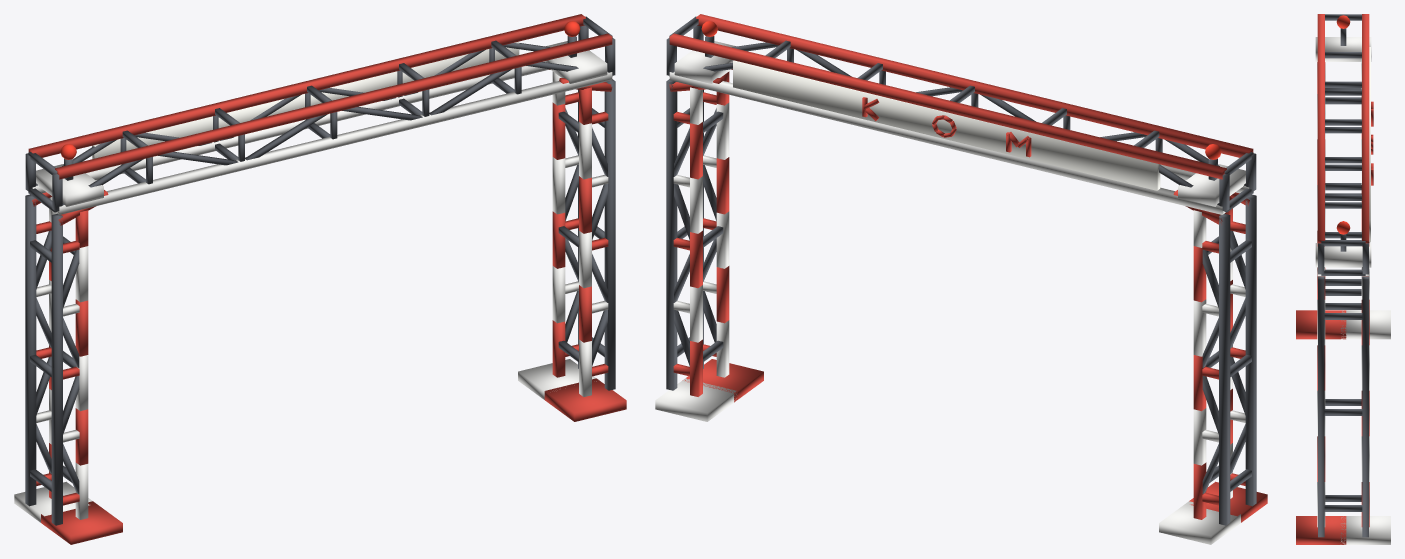
The model's file is prop_arch.gltf.
The picture shows the model from 3 angles, left to right: view 1: azimuth 30°, elevation 25°; view 2: azimuth 150°, elevation 25°; view 3: azimuth 270°, elevation 25°; orthographic projection. The views are drawn at different scales.
Visible parts, largest first — view 1: RaceArch; view 2: RaceArch; view 3: RaceArch.
Boxes of the visible parts, <box> form: RaceArch: <box>14,14,626,544</box>; RaceArch: <box>655,14,1267,544</box>; RaceArch: <box>1296,14,1390,544</box>.
Size of the model in its own units: 10.23 by 6.52 by 1.79.
